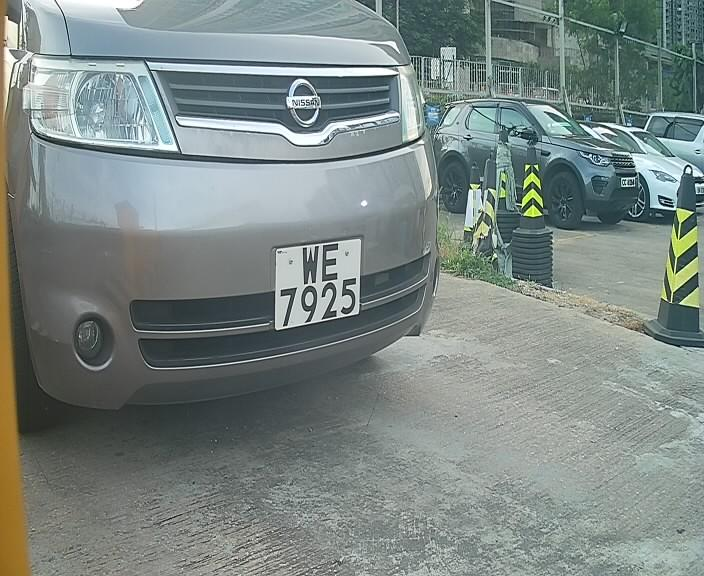License Plate: (265, 229, 368, 340)
